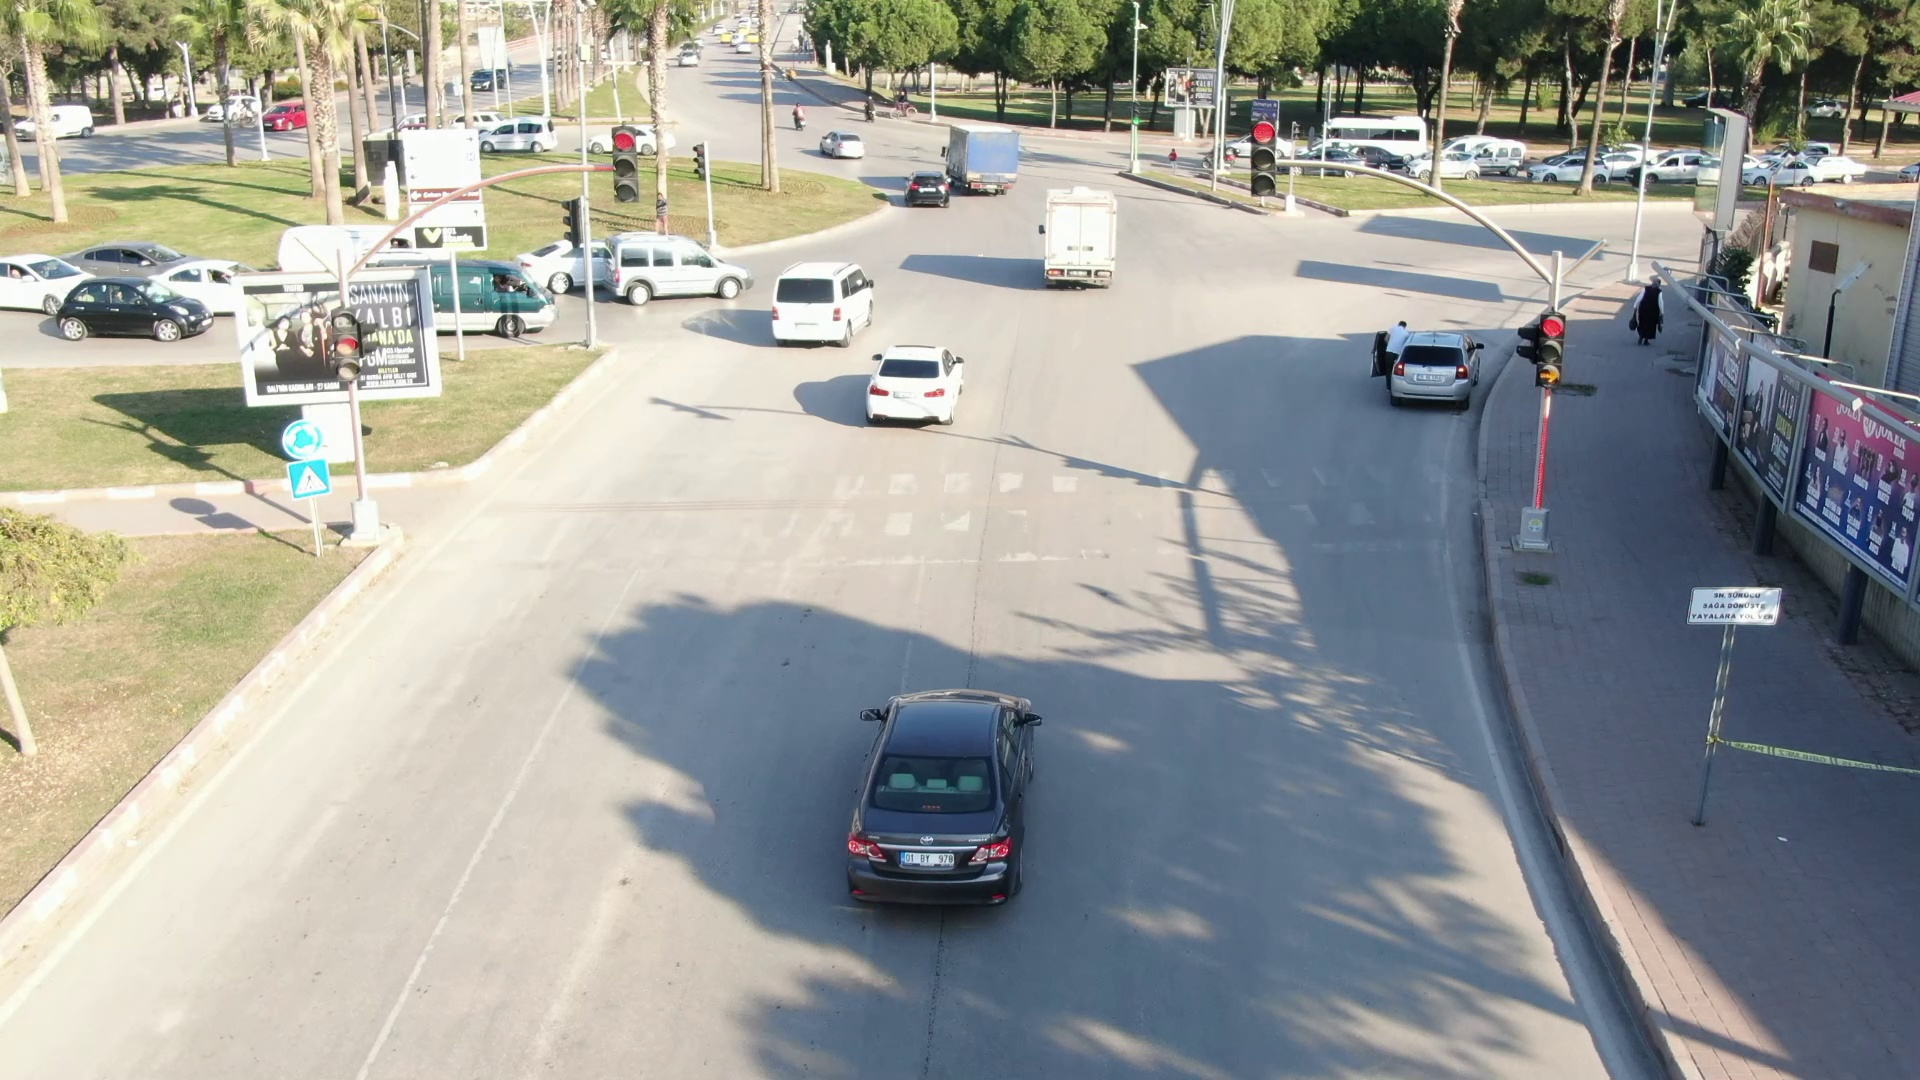car: (840, 666, 1075, 935), (842, 326, 983, 438), (596, 220, 760, 314), (1029, 179, 1139, 301), (50, 273, 222, 347), (757, 252, 879, 351), (1392, 330, 1494, 414), (936, 115, 1034, 198)
person: (1619, 272, 1678, 352)
